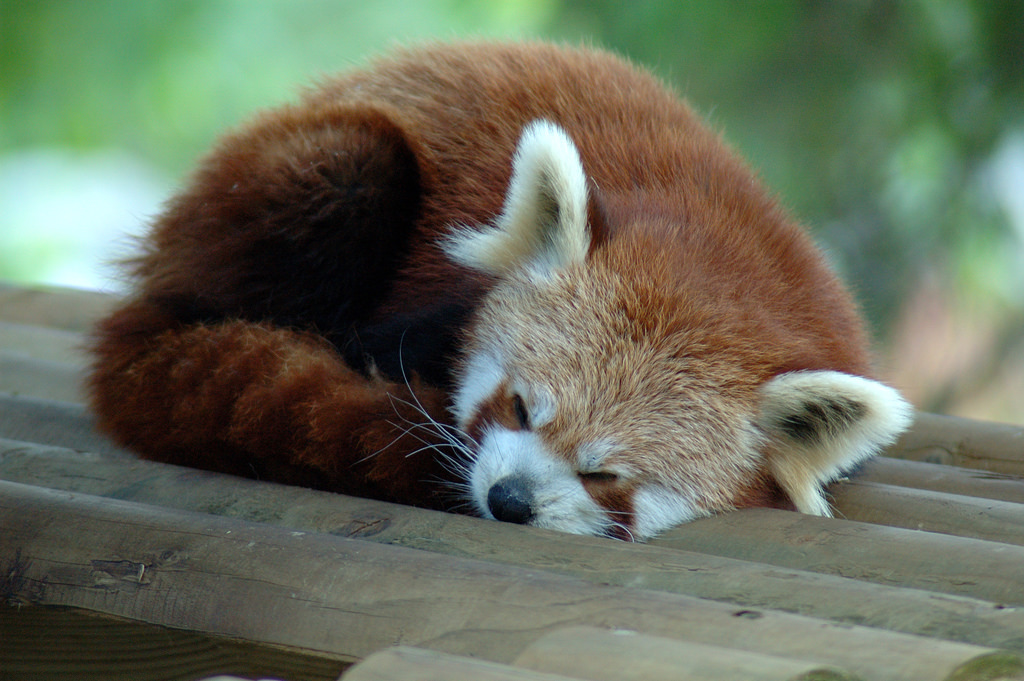red_panda: (96, 41, 910, 539)
